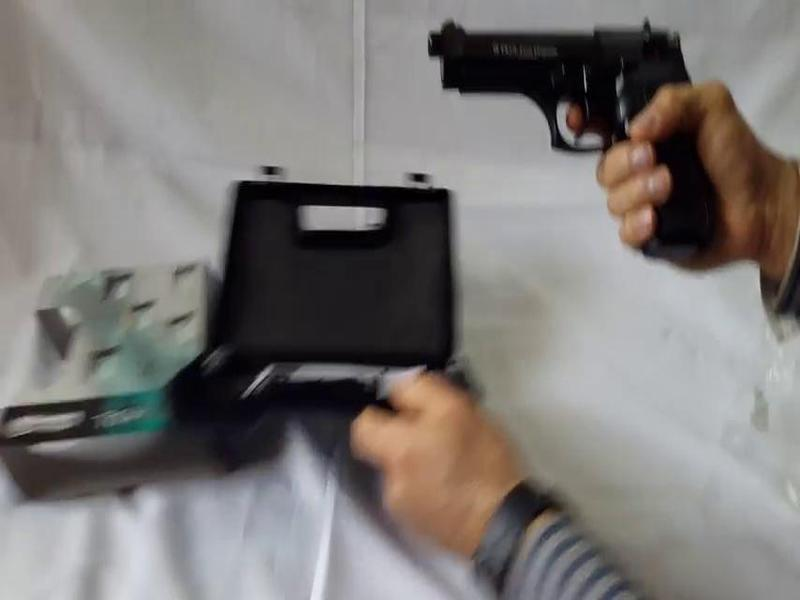Pistola: (423, 14, 756, 283)
